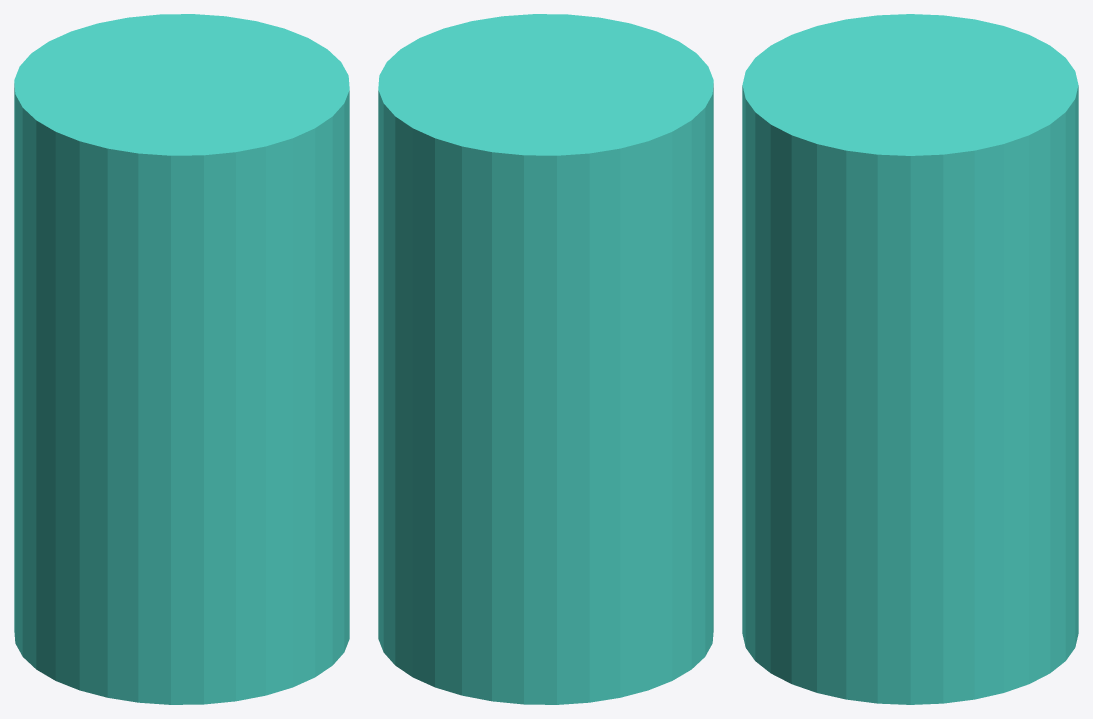
File: cylender.gltf
3 views of the same model, side by side, from view 1: azimuth 30°, elevation 25°; view 2: azimuth 150°, elevation 25°; view 3: azimuth 270°, elevation 25° (orthographic).
Visible parts, largest first — view 1: Cylinder; view 2: Cylinder; view 3: Cylinder.
Boxes of the visible parts, x1,y1,x2,y2 form: Cylinder: (14, 14, 349, 704); Cylinder: (378, 14, 713, 704); Cylinder: (742, 14, 1078, 704).
Bounding box in the file's own units: 2 × 3.6 × 2.
